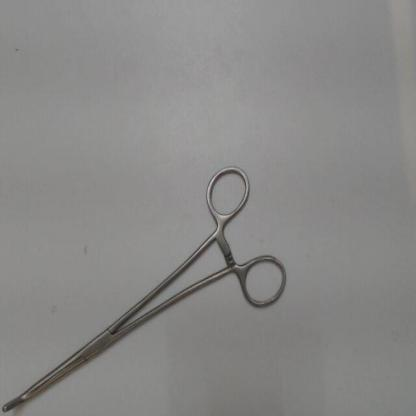Lahey Forceps: (1, 160, 292, 414)
